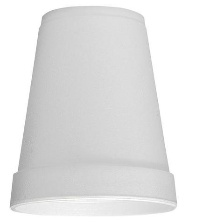glass: (4, 1, 179, 219)
